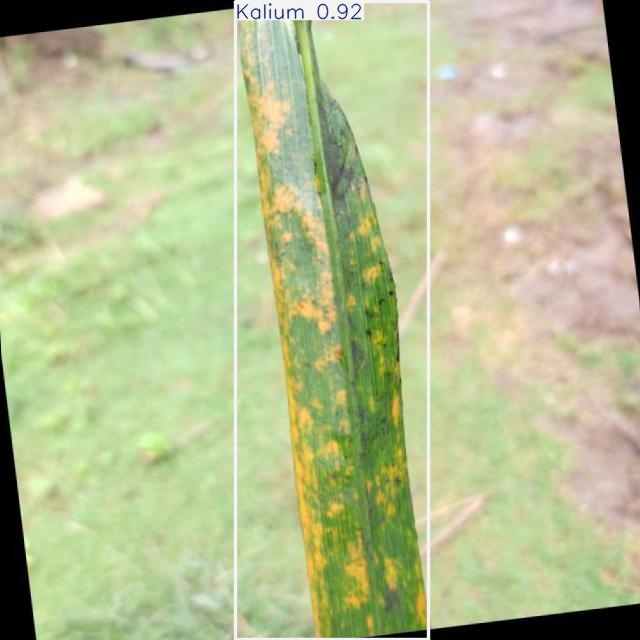Kalium: (236, 1, 429, 640)
